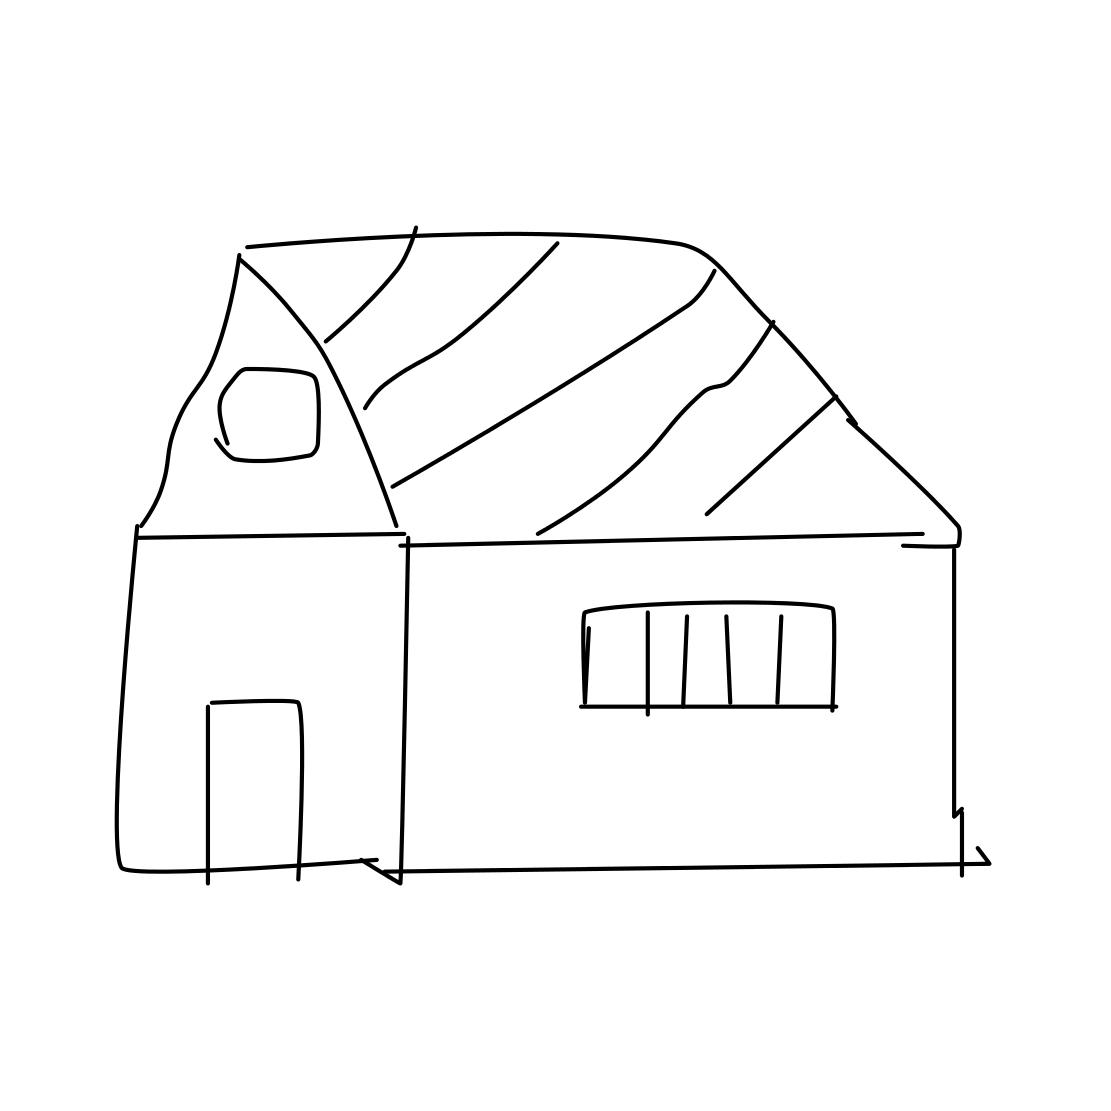House: (79, 174, 1008, 903)
